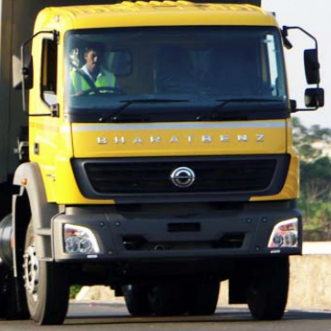truck: (1, 1, 326, 328)
